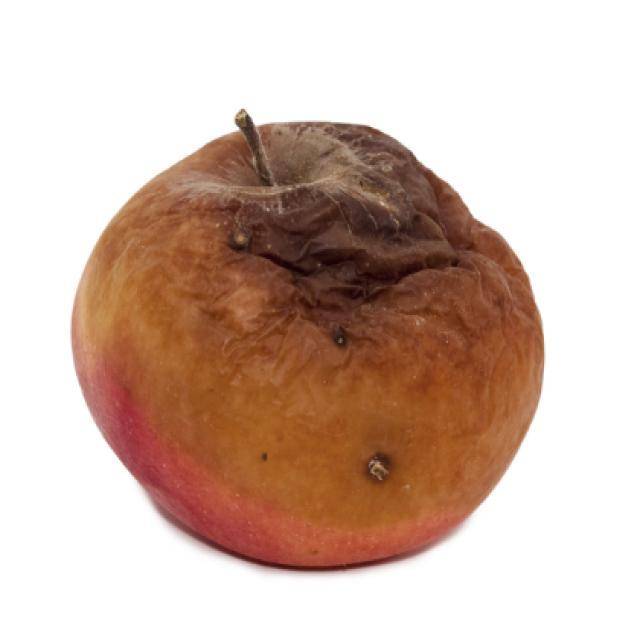Rotten: (57, 111, 548, 576)
